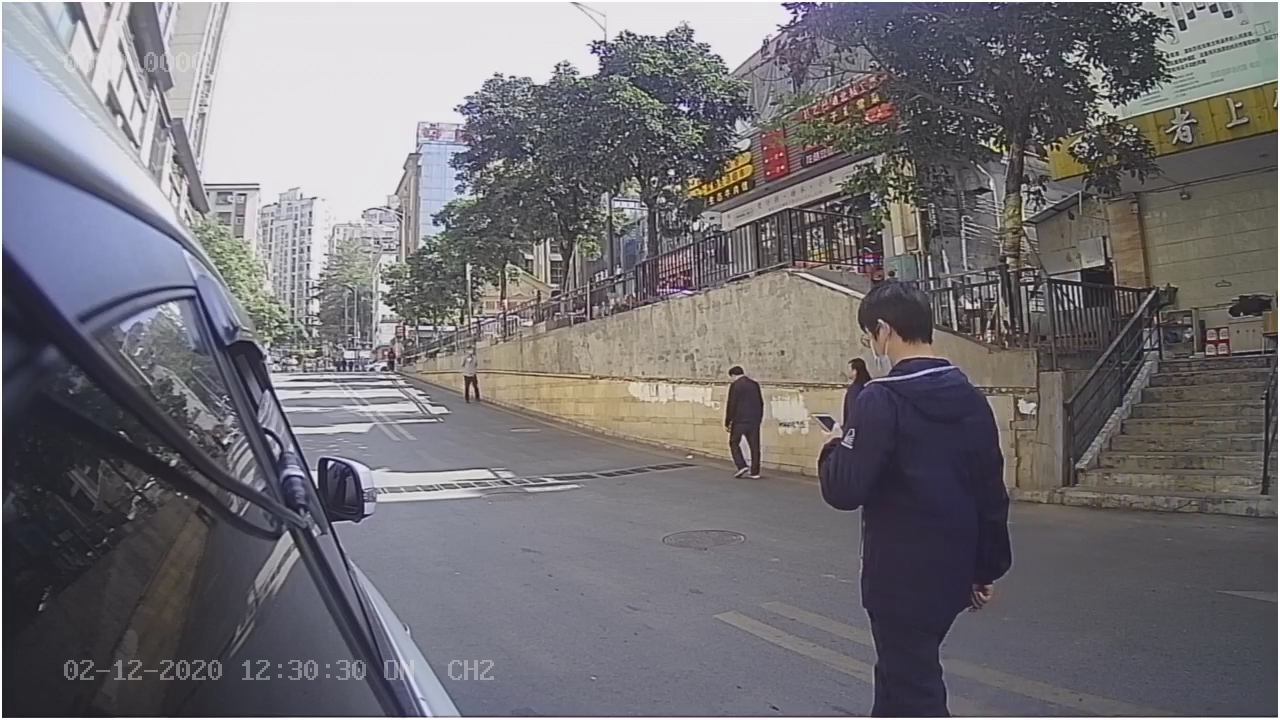person: (816, 270, 1016, 487), (702, 348, 783, 485)
